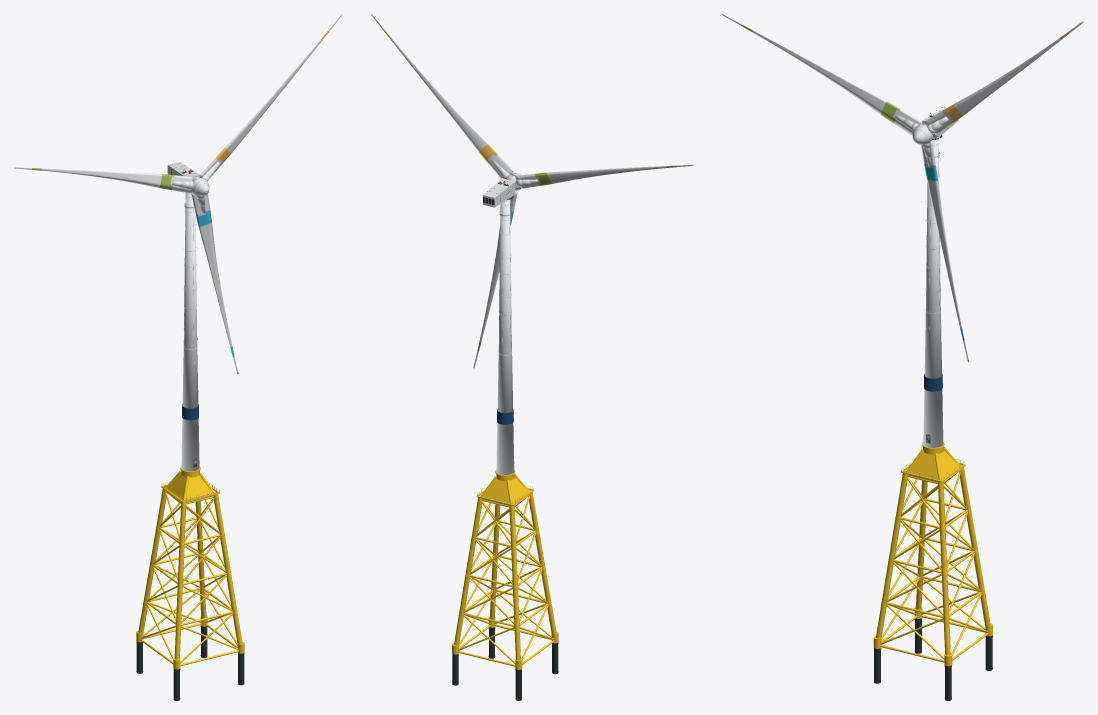
Rendered from jacket.glb.
3 views of the same model, side by side, from view 1: azimuth 30°, elevation 25°; view 2: azimuth 150°, elevation 25°; view 3: azimuth 330°, elevation 25° (orthographic). The views are drawn at different scales.
Visible parts, largest first — view 1: TOWER_MONOLITH_continuous_metal_skin.002, torre_tubular_metalica_conica_escala_precisa_superdetallada., pala_1_70m_separada_0_grados_escala_precisa.002, pala_2_70m_separada_120_grados_escala_precisa.002, pala_3_70m_separada_240_grados_escala_precisa.002, JACKET_PATA_1_inclinada, JACKET_PATA_2_inclinada, JACKET_PATA_4_inclinada, TRANSICION_AMARILLA_TRONCOPIRAMIDAL, JACKET_PATA_3_inclinada; view 2: TOWER_MONOLITH_continuous_metal_skin.002, torre_tubular_metalica_conica_escala_precisa_superdetallada., pala_3_70m_separada_240_grados_escala_precisa.002, pala_2_70m_separada_120_grados_escala_precisa.002, JACKET_PATA_4_inclinada, JACKET_PATA_3_inclinada, JACKET_PATA_1_inclinada, TRANSICION_AMARILLA_TRONCOPIRAMIDAL, pala_1_70m_separada_0_grados_escala_precisa.002, SUPER_NACELLE_gondola_aerodinamica_panelada_13m.002, JACKET_PATA_2_inclinada; view 3: TOWER_MONOLITH_continuous_metal_skin.002, pala_2_70m_separada_120_grados_escala_precisa.002, torre_tubular_metalica_conica_escala_precisa_superdetallada., pala_3_70m_separada_240_grados_escala_precisa.002, pala_1_70m_separada_0_grados_escala_precisa.002, JACKET_PATA_2_inclinada, JACKET_PATA_1_inclinada, JACKET_PATA_3_inclinada, TRANSICION_AMARILLA_TRONCOPIRAMIDAL, JACKET_PATA_4_inclinada.
Part boxes in pixels (x1=…): TOWER_MONOLITH_continuous_metal_skin.002: x1=181, y1=340, x2=199, y2=471; torre_tubular_metalica_conica_escala_precisa_superdetallada.: x1=184, y1=193, x2=196, y2=341; pala_1_70m_separada_0_grados_escala_precisa.002: x1=191, y1=193, x2=238, y2=374; pala_2_70m_separada_120_grados_escala_precisa.002: x1=14, y1=167, x2=193, y2=193; pala_3_70m_separada_240_grados_escala_precisa.002: x1=199, y1=14, x2=342, y2=177; JACKET_PATA_1_inclinada: x1=174, y1=502, x2=186, y2=659; JACKET_PATA_2_inclinada: x1=213, y1=492, x2=242, y2=644; JACKET_PATA_4_inclinada: x1=138, y1=486, x2=167, y2=634; TRANSICION_AMARILLA_TRONCOPIRAMIDAL: x1=167, y1=473, x2=212, y2=499; JACKET_PATA_3_inclinada: x1=195, y1=501, x2=206, y2=618; TOWER_MONOLITH_continuous_metal_skin.002: x1=496, y1=345, x2=514, y2=474; torre_tubular_metalica_conica_escala_precisa_superdetallada.: x1=498, y1=199, x2=511, y2=347; pala_3_70m_separada_240_grados_escala_precisa.002: x1=371, y1=14, x2=513, y2=178; pala_2_70m_separada_120_grados_escala_precisa.002: x1=515, y1=164, x2=693, y2=188; JACKET_PATA_4_inclinada: x1=509, y1=505, x2=520, y2=660; JACKET_PATA_3_inclinada: x1=454, y1=496, x2=482, y2=645; JACKET_PATA_1_inclinada: x1=529, y1=490, x2=556, y2=635; TRANSICION_AMARILLA_TRONCOPIRAMIDAL: x1=483, y1=477, x2=528, y2=503; pala_1_70m_separada_0_grados_escala_precisa.002: x1=473, y1=191, x2=517, y2=368; SUPER_NACELLE_gondola_aerodinamica_panelada_13m.002: x1=483, y1=178, x2=515, y2=207; JACKET_PATA_2_inclinada: x1=489, y1=504, x2=500, y2=619; TOWER_MONOLITH_continuous_metal_skin.002: x1=923, y1=303, x2=943, y2=447; pala_2_70m_separada_120_grados_escala_precisa.002: x1=722, y1=14, x2=922, y2=135; torre_tubular_metalica_conica_escala_precisa_superdetallada.: x1=926, y1=138, x2=940, y2=305; pala_3_70m_separada_240_grados_escala_precisa.002: x1=923, y1=21, x2=1083, y2=134; pala_1_70m_separada_0_grados_escala_precisa.002: x1=920, y1=141, x2=969, y2=362; JACKET_PATA_2_inclinada: x1=938, y1=481, x2=950, y2=655; JACKET_PATA_1_inclinada: x1=876, y1=471, x2=907, y2=638; JACKET_PATA_3_inclinada: x1=959, y1=464, x2=990, y2=627; TRANSICION_AMARILLA_TRONCOPIRAMIDAL: x1=908, y1=450, x2=959, y2=479; JACKET_PATA_4_inclinada: x1=916, y1=480, x2=927, y2=610.
Bounding box in the file's own units: 123 × 227 × 26.26.
